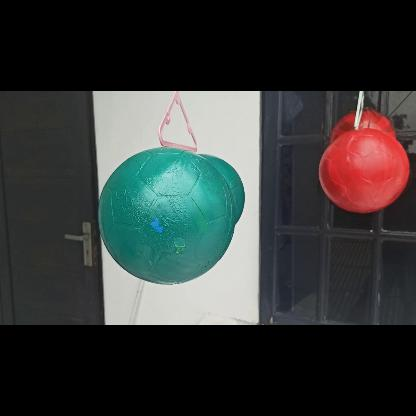red_ball: (322, 126, 410, 212)
